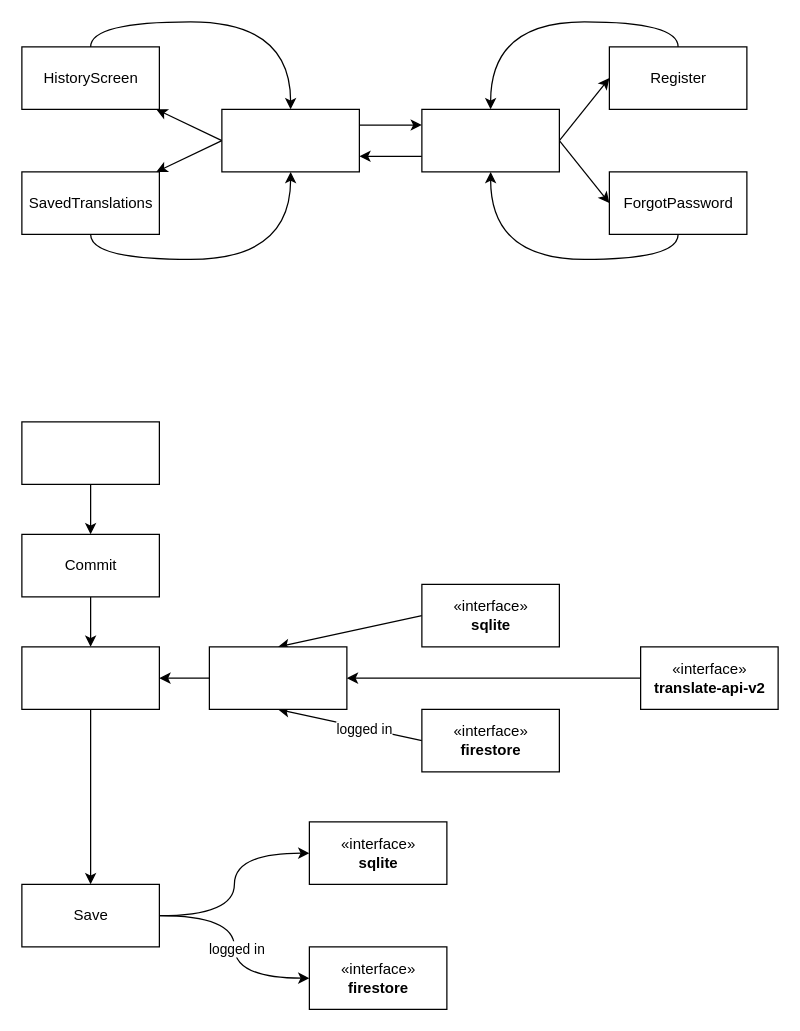
This 800x1031 diagram has some shape labels left out. The shapes that lost their labels are listed below. From the top down, each one's centre as x and y in pixels, then its label:
At point (290, 140): "TranslateScreen".
At point (490, 140): "Login".
At point (90, 452): "Typing".
At point (90, 677): "Translate".
At point (277, 677): "«interface» translate".
